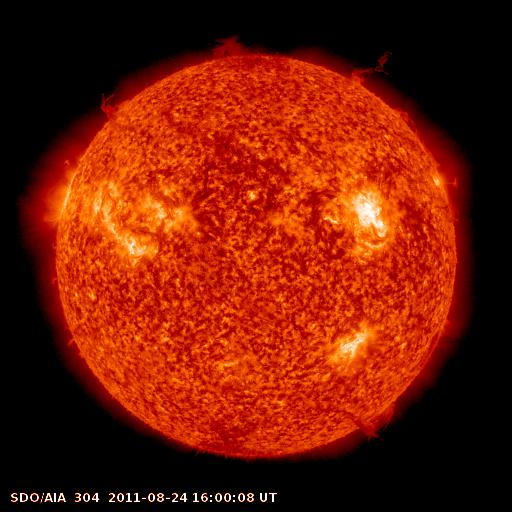prominence: (320, 394, 405, 440), (345, 44, 397, 86), (90, 85, 136, 131), (203, 30, 256, 69), (393, 100, 423, 136)
